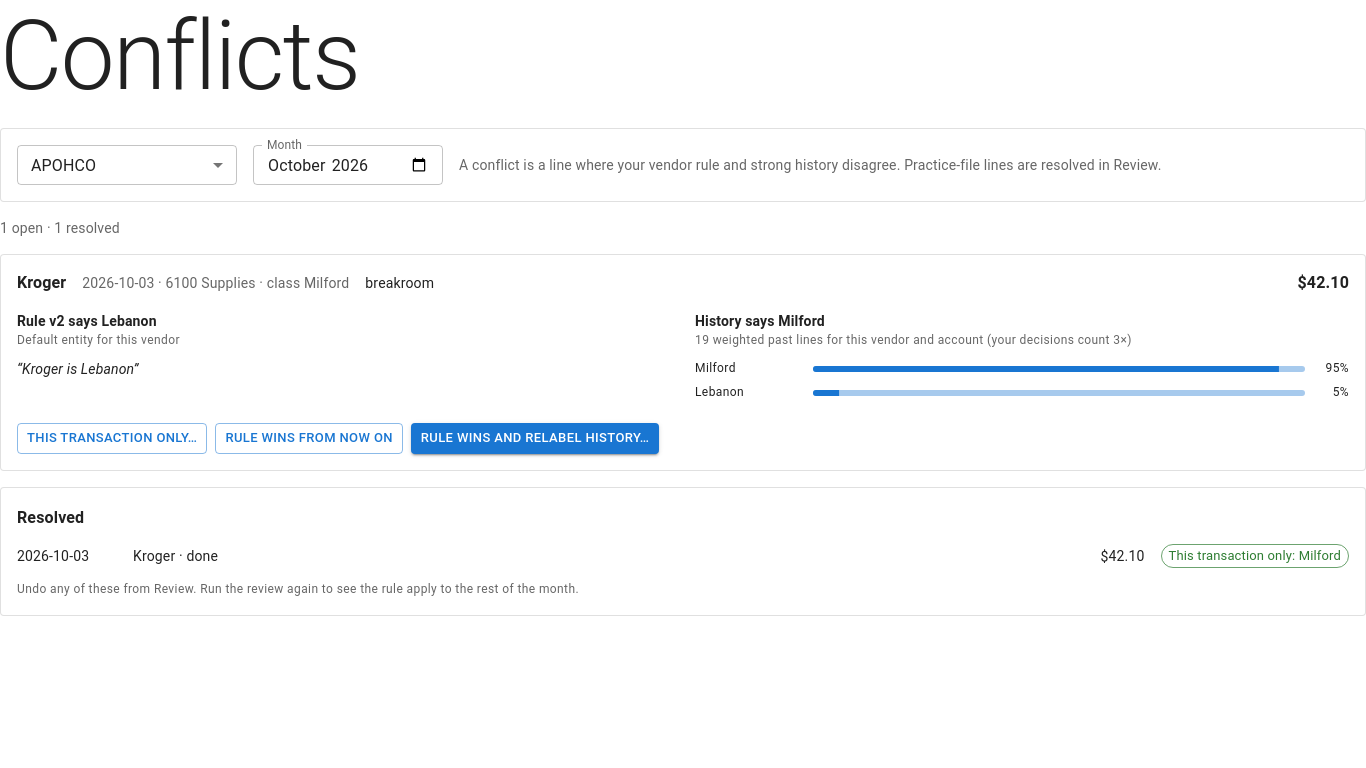
Test: Conflicts page › this transaction only
Click the button "This transaction only…" at point(112, 438), box x1=17 y1=423 x2=207 y2=454
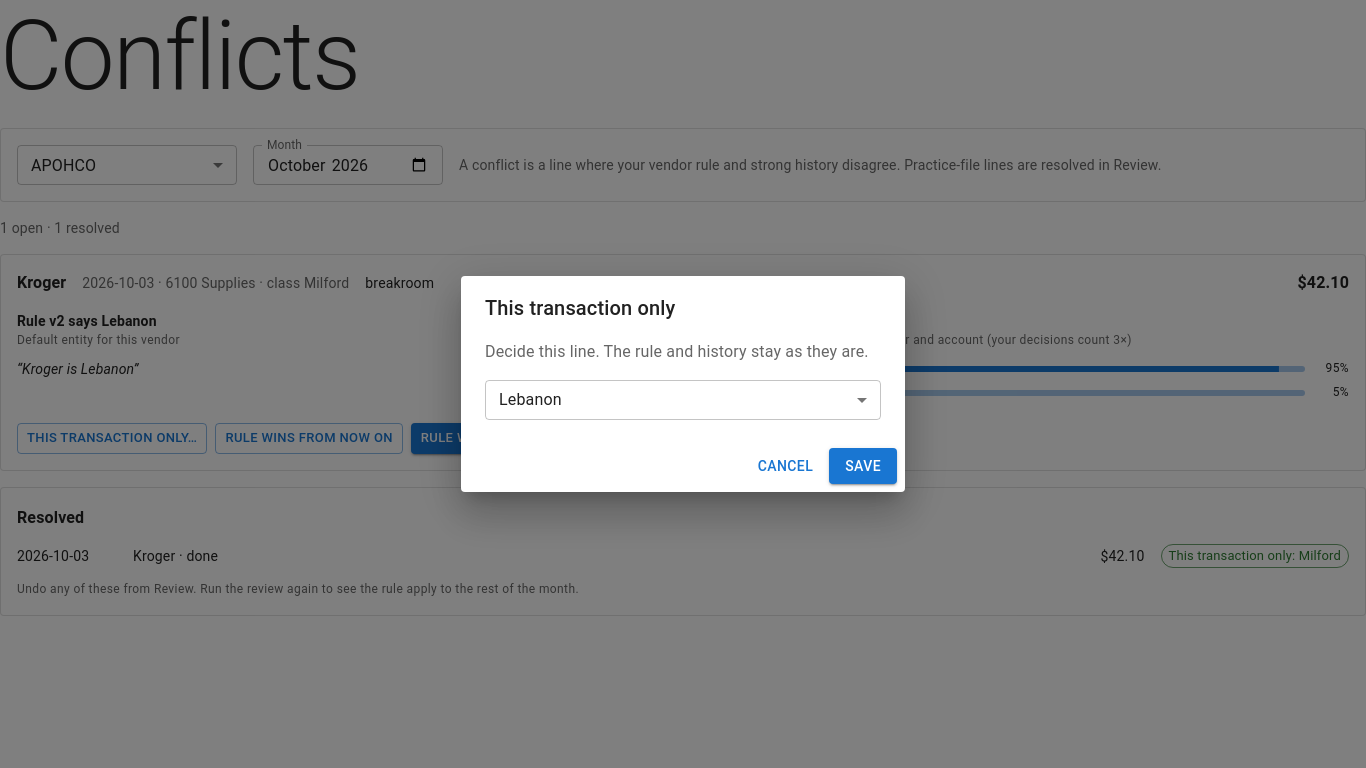
Click the dropdown named "Entity for this line" at point(530, 400), box x1=499 y1=390 x2=562 y2=409
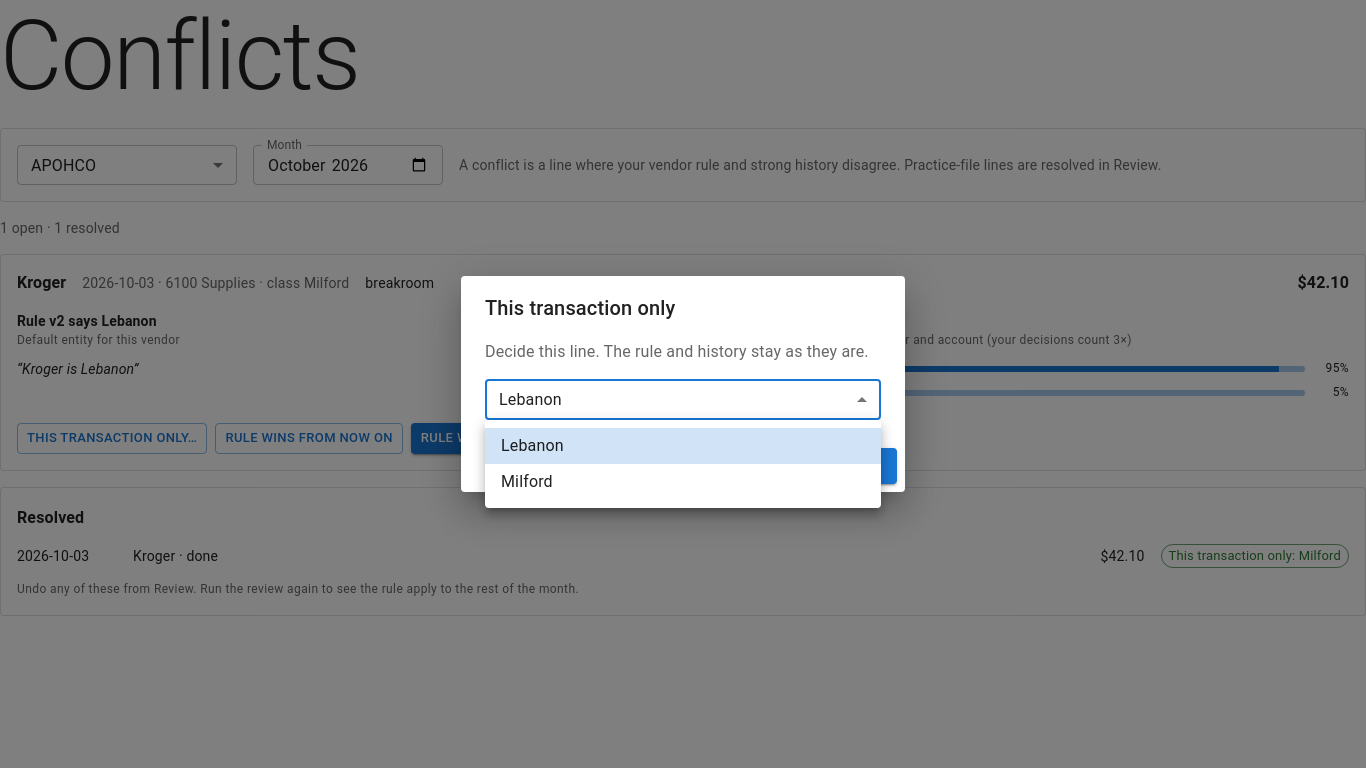
Click the option "Milford" at point(527, 482), box x1=501 y1=472 x2=553 y2=491
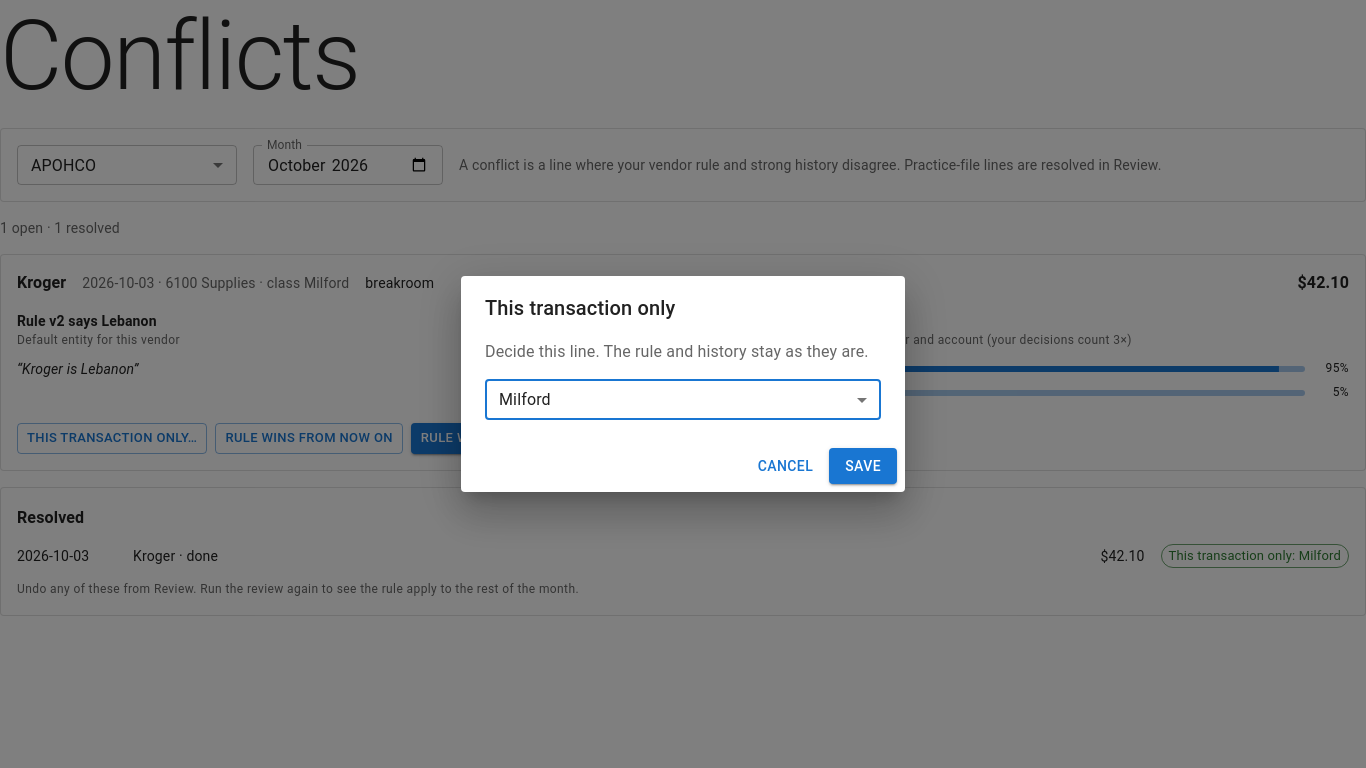
Click the button "Save" at point(863, 466), box x1=829 y1=448 x2=897 y2=484
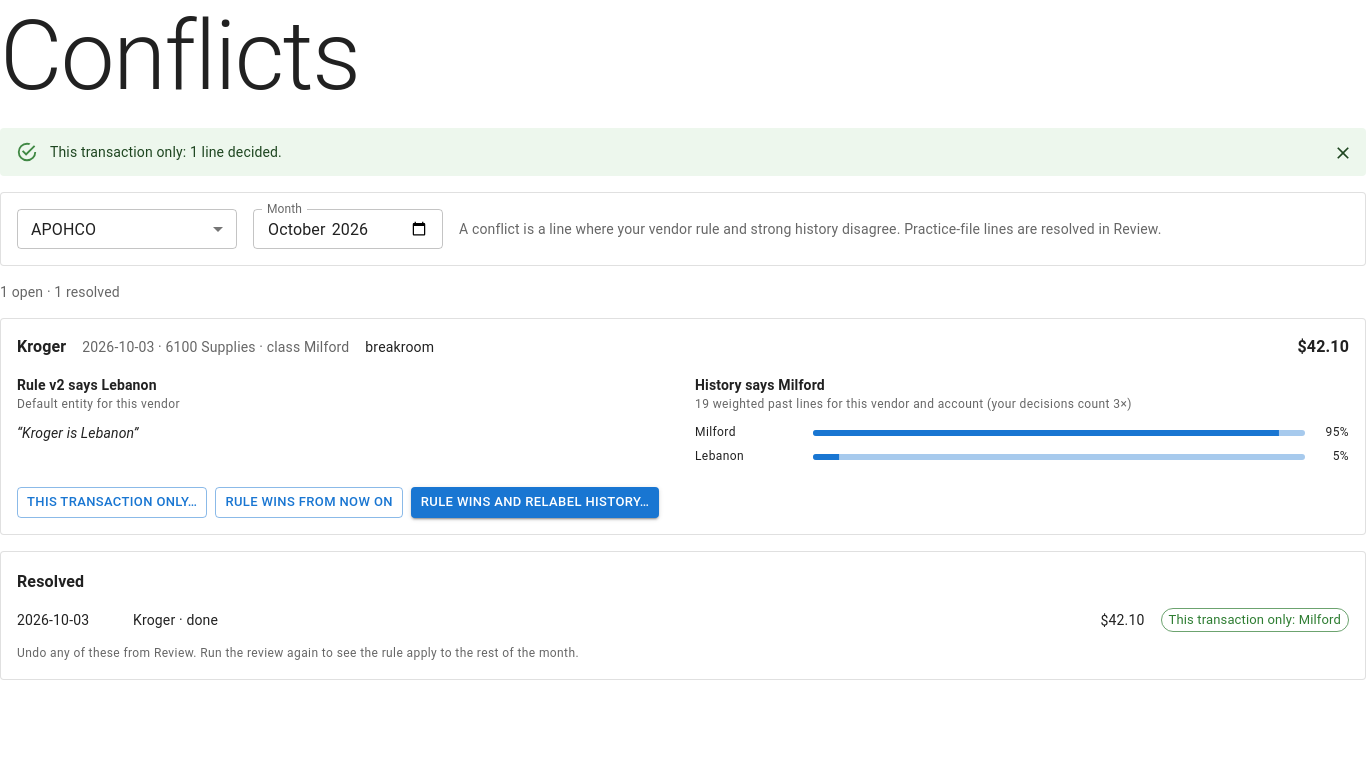
Expected: the text "This transaction only: 1 line decided." is shown, x1=50 y1=144 x2=282 y2=160
